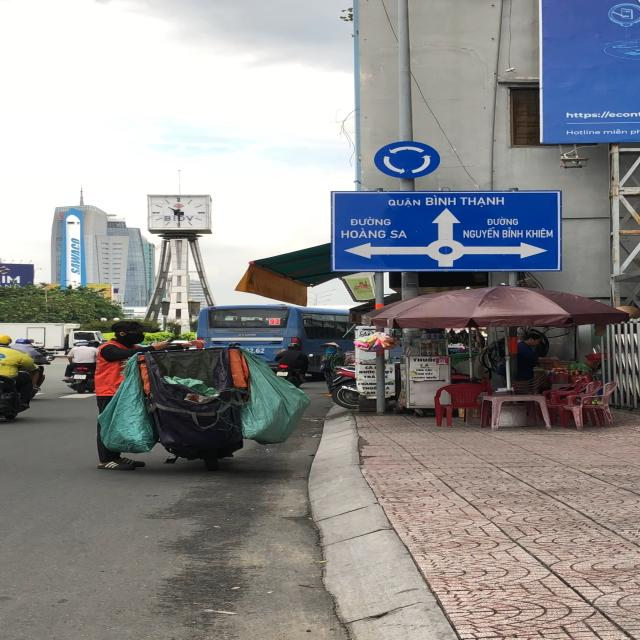Bien bao noi giao nhau chay theo vong xuyen: (368, 140, 446, 179)
